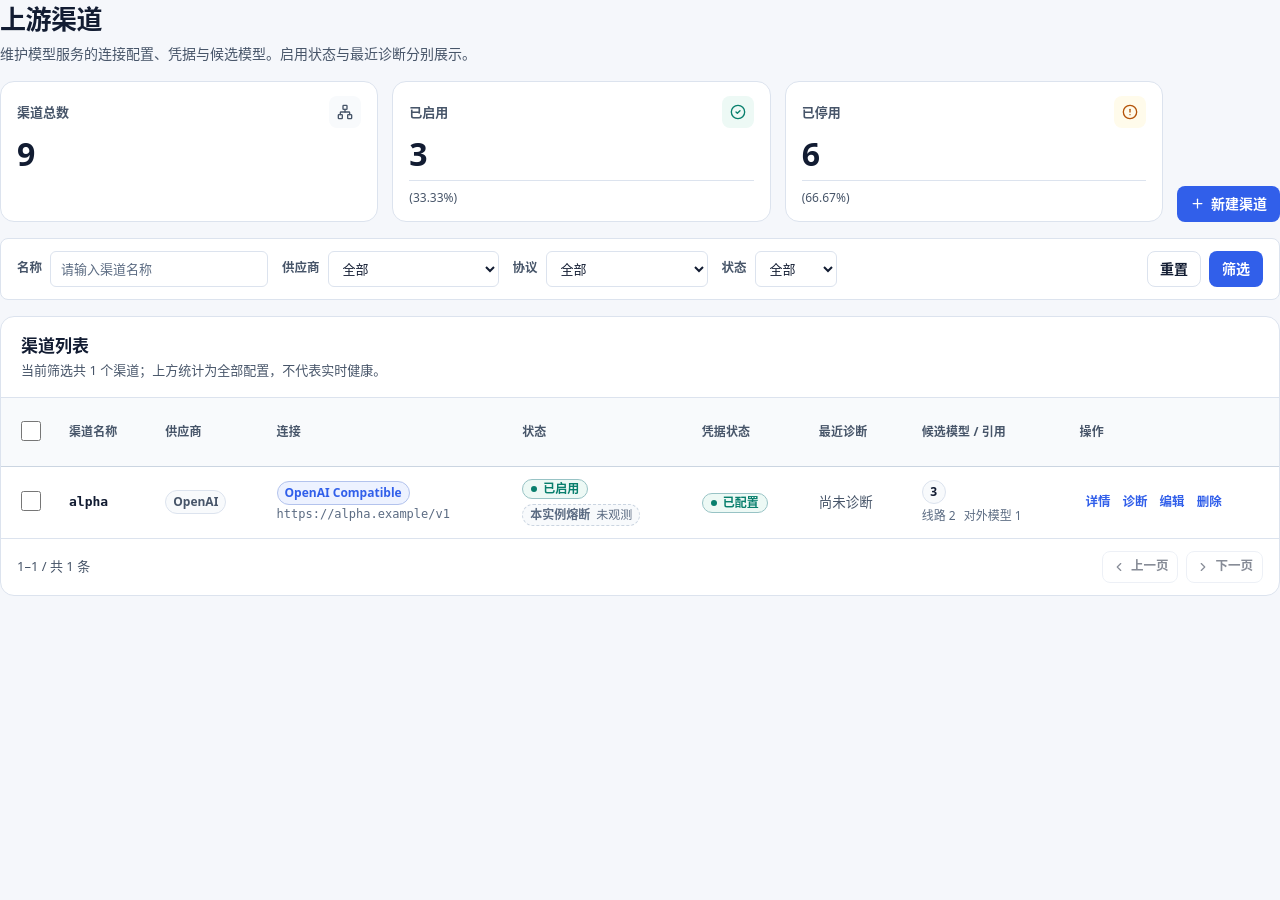
Test: ProvidersPage channel facts › opens a read-only detail view and updates its diagnostic facts after the real response
Expected: the text "alpha" is shown, [69,494,108,509]
Click the button "详情" at [1098, 502], box [1080,489,1117,516]
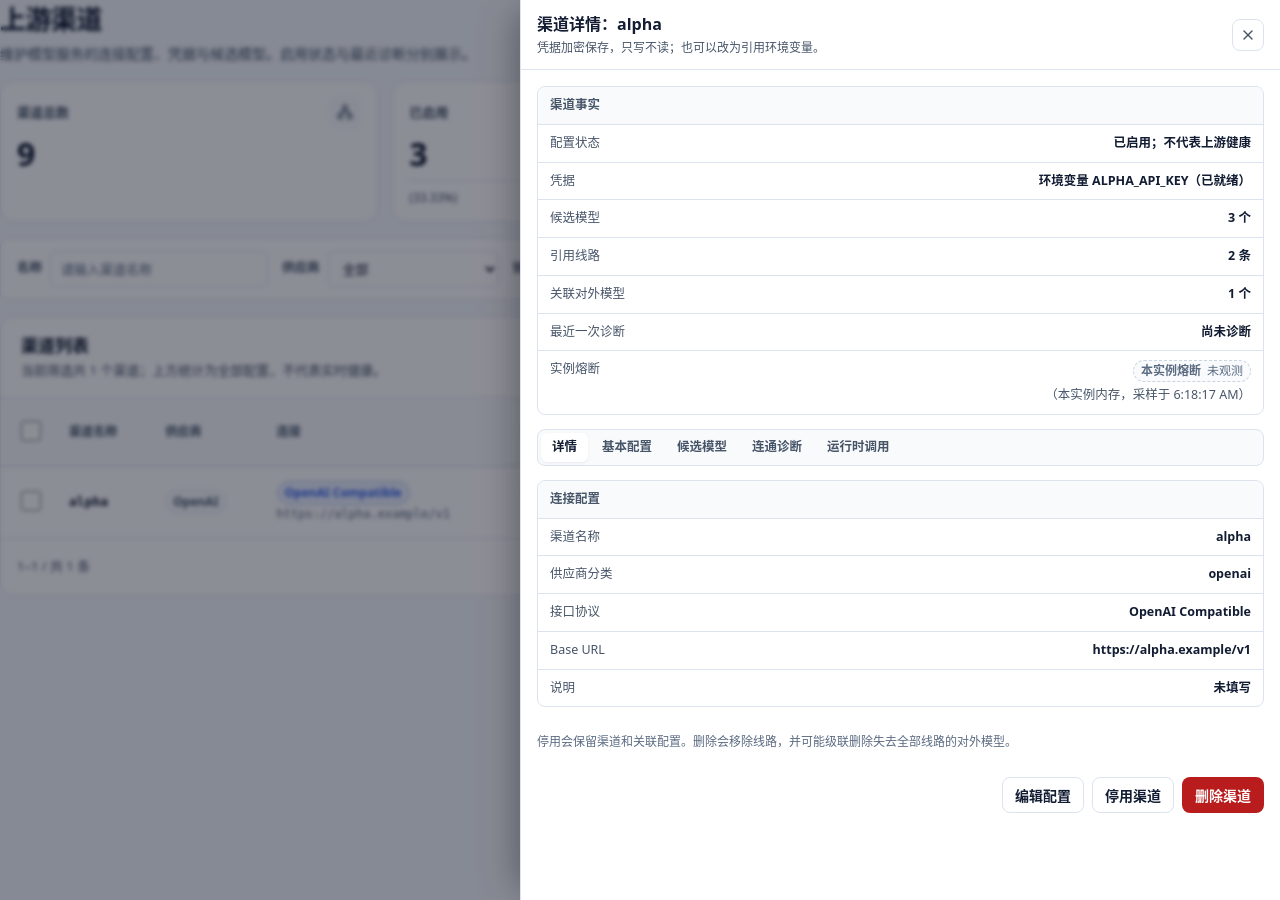
Now the text "尚未诊断" is shown, box [1201,322,1251,340]
Click the button "连通诊断" at [777, 448], box [741,433,813,462]
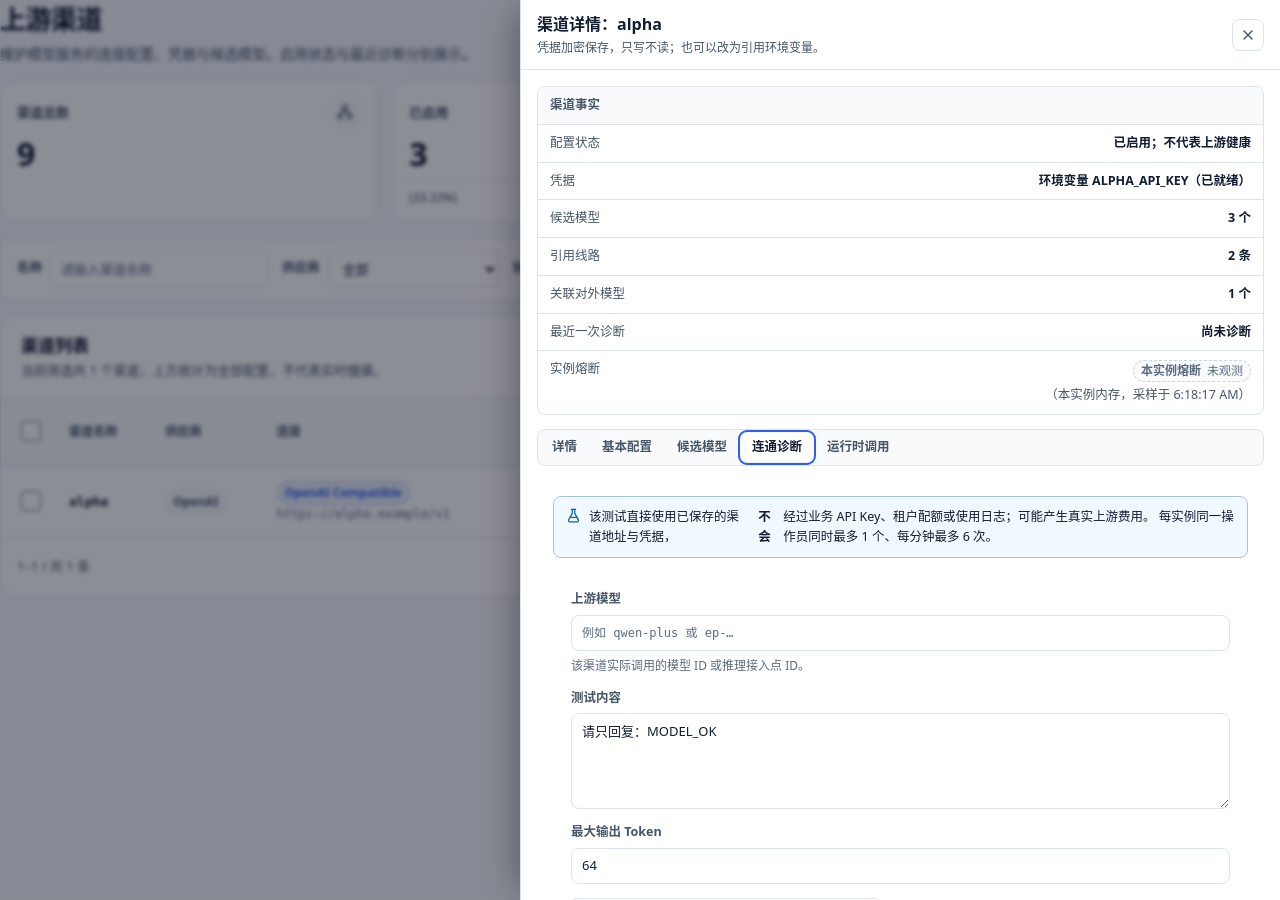
Type "qa-model" into the field labelled "上游模型 该渠道实际调用的模型 ID 或推理接入点 ID。" at [900, 633], box [571,615,1230,651]
(page scrolled)
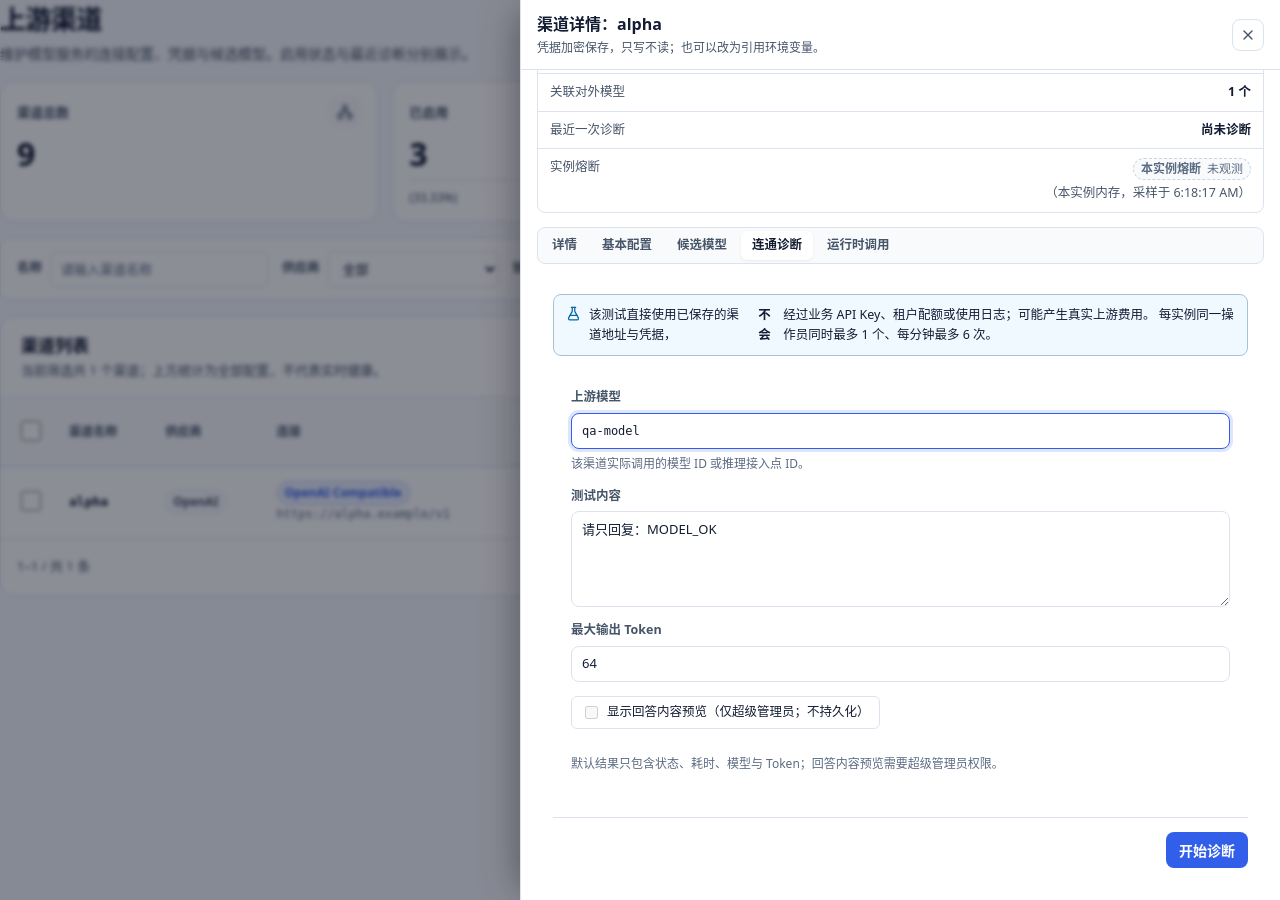
Click the button "开始诊断" at [1207, 850], box [1166,832,1248,868]
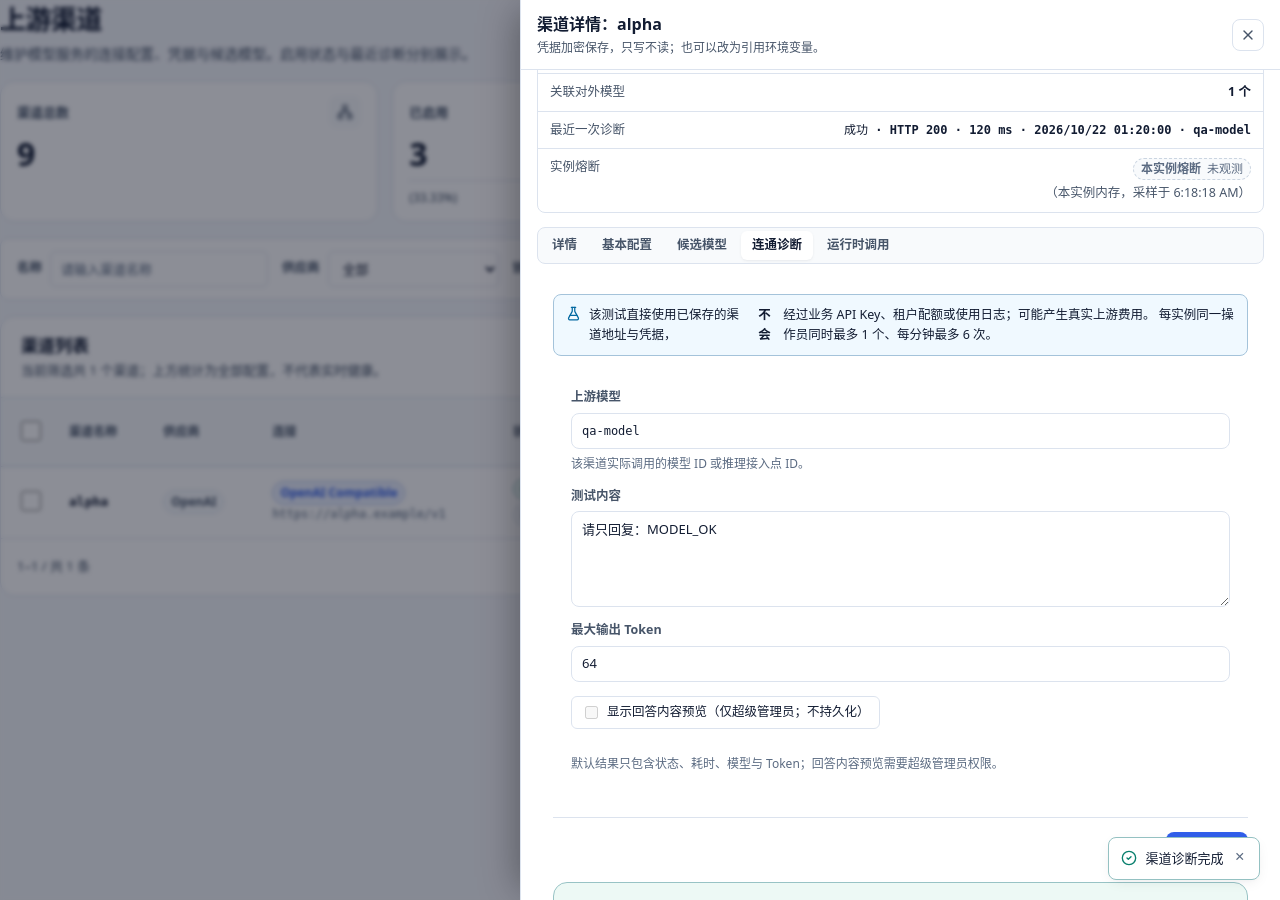
Now the text "成功 · HTTP 200 · 120 ms · 2026/10/22 01:20:00 · qa-model" is shown, box [844,122,1251,136]
